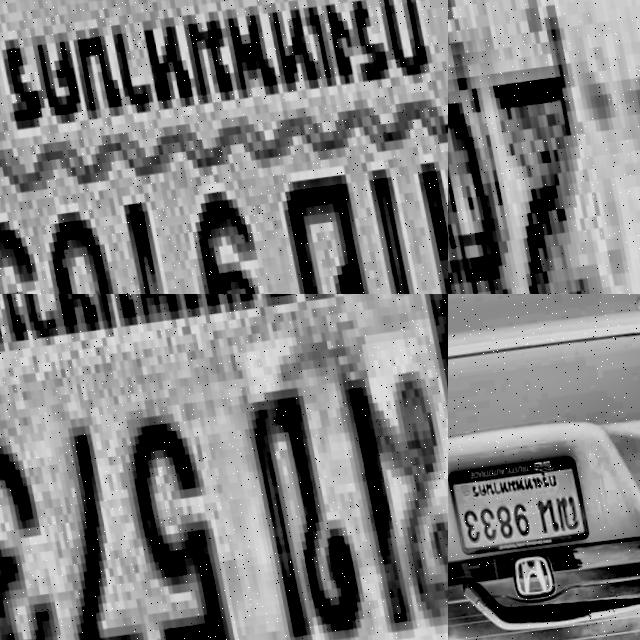license-plate: (0, 294, 448, 640), (0, 0, 448, 294), (448, 0, 640, 294), (448, 451, 587, 559)
